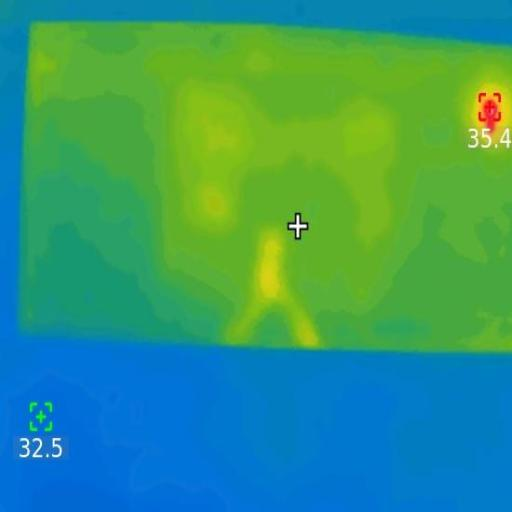hotspot: (481, 101, 503, 135)
